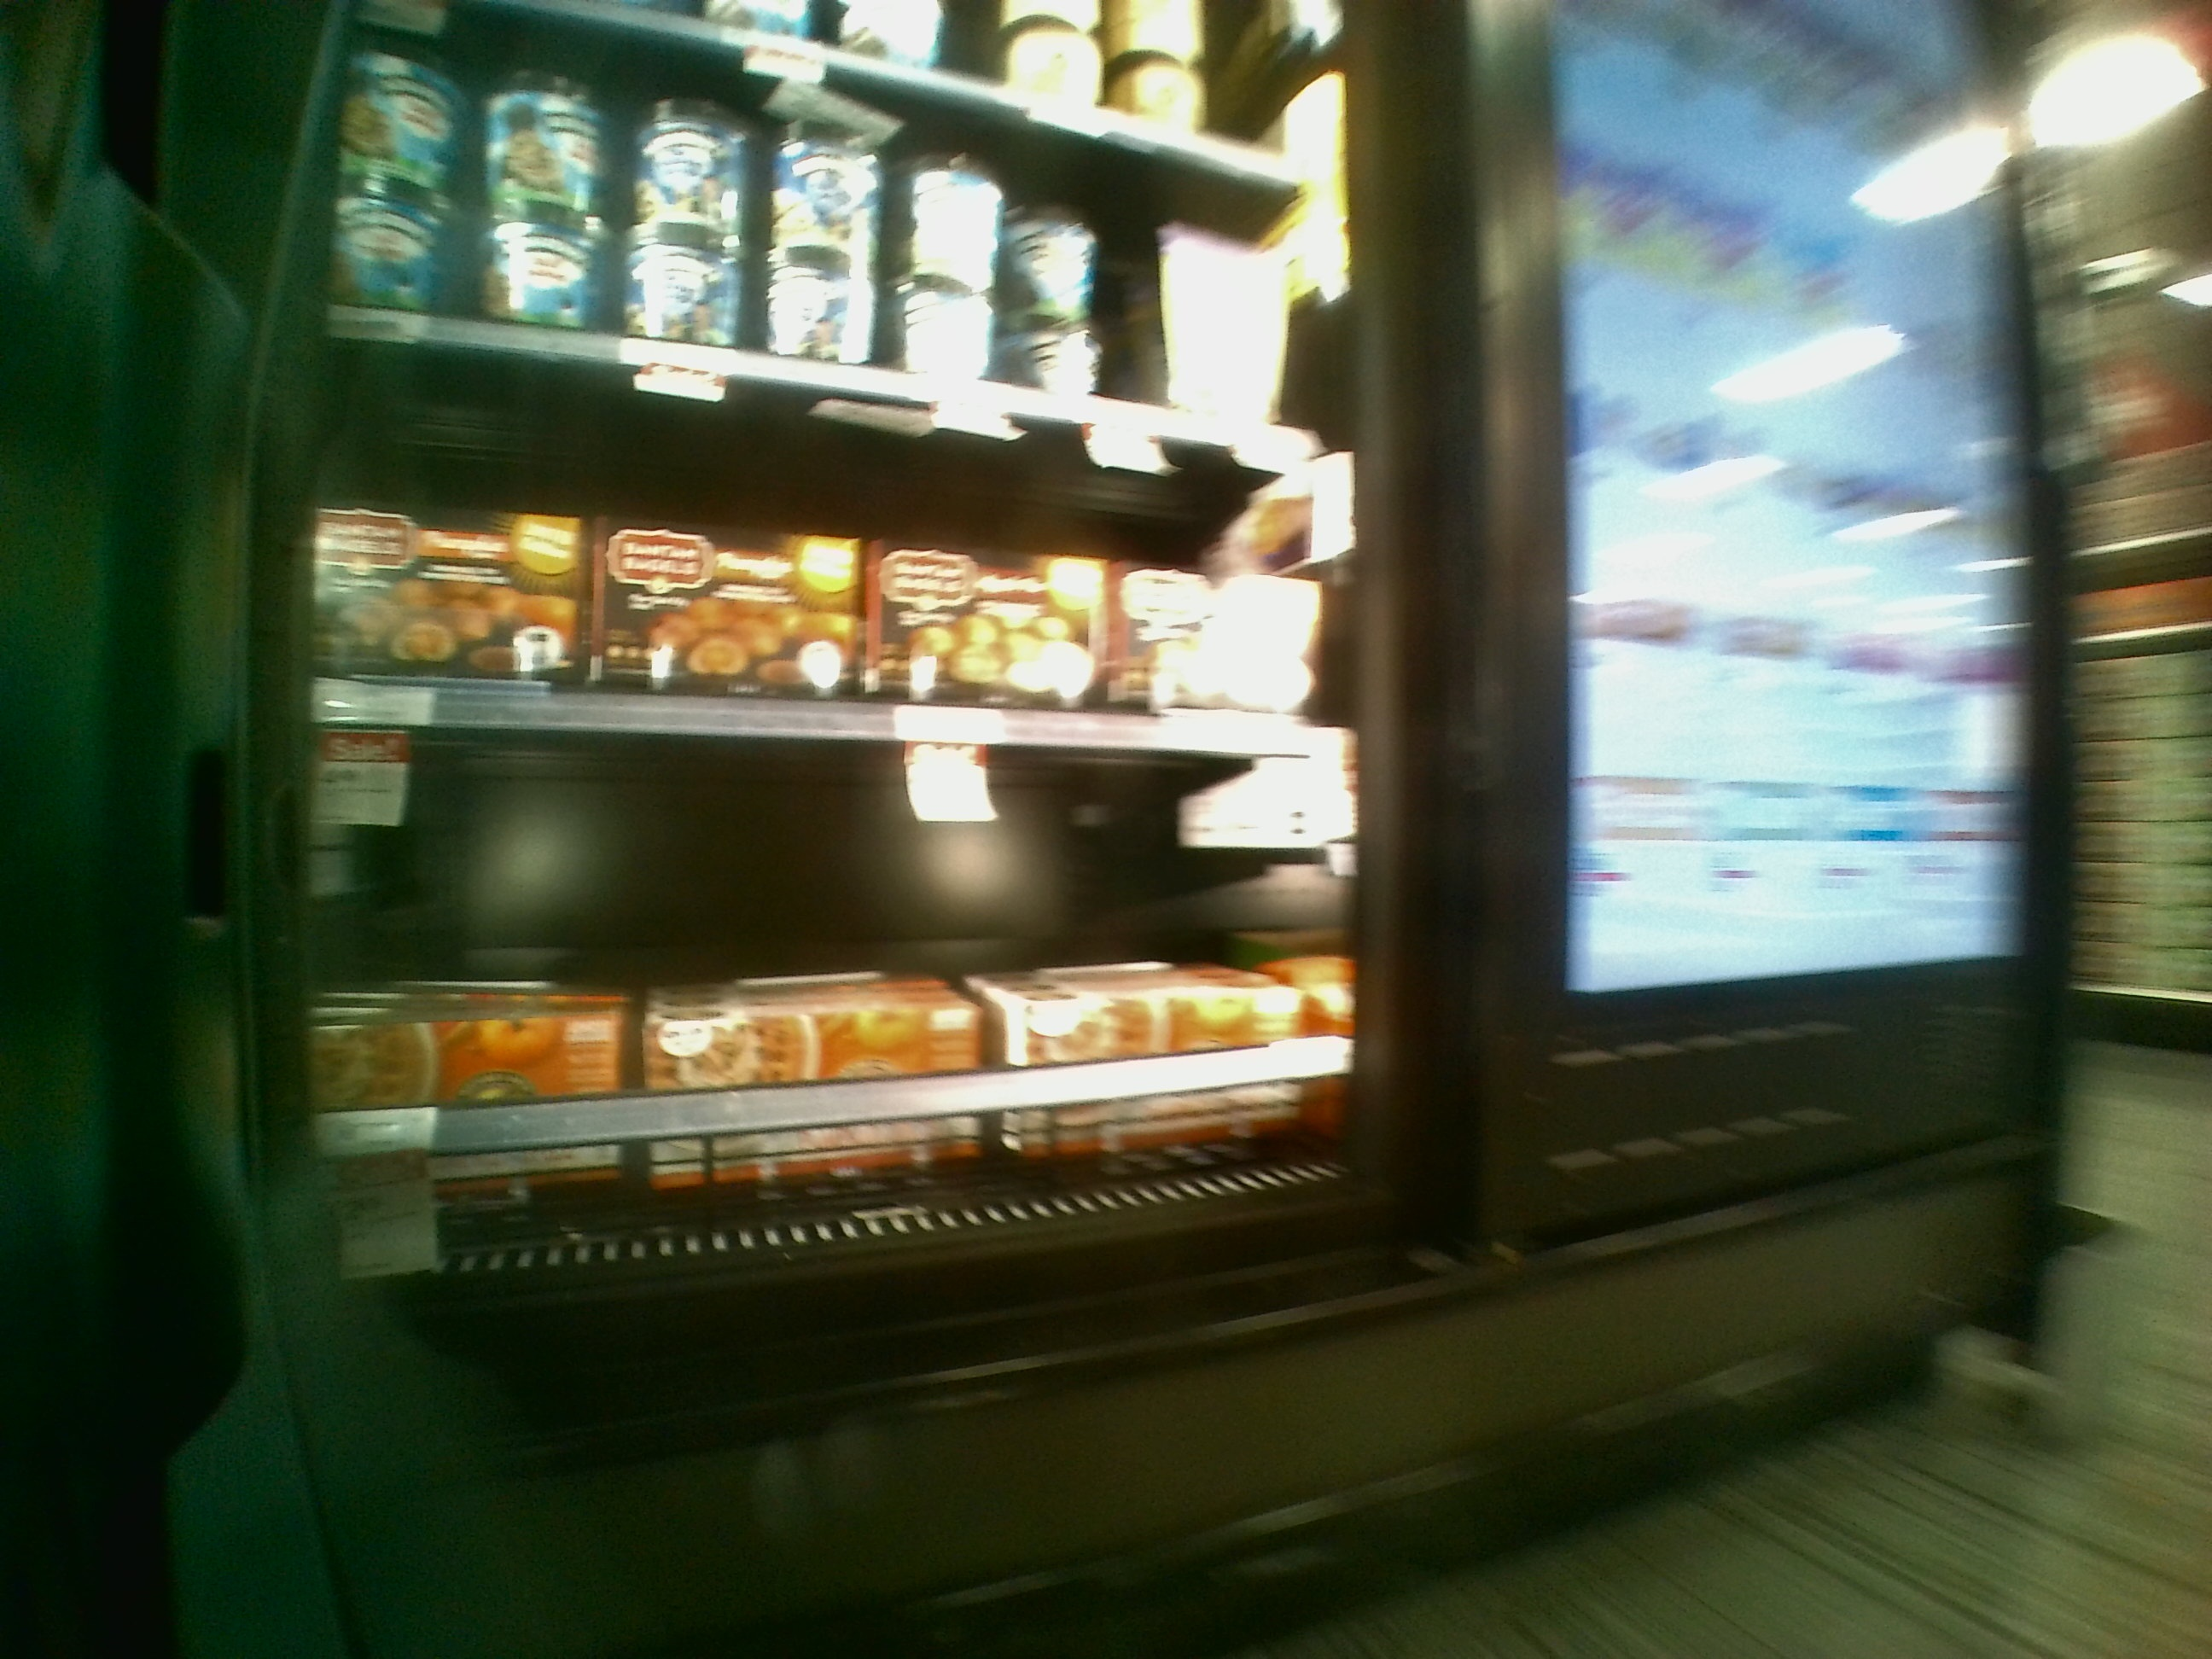shelf: (268, 746, 1400, 1260), (298, 347, 1369, 763)
